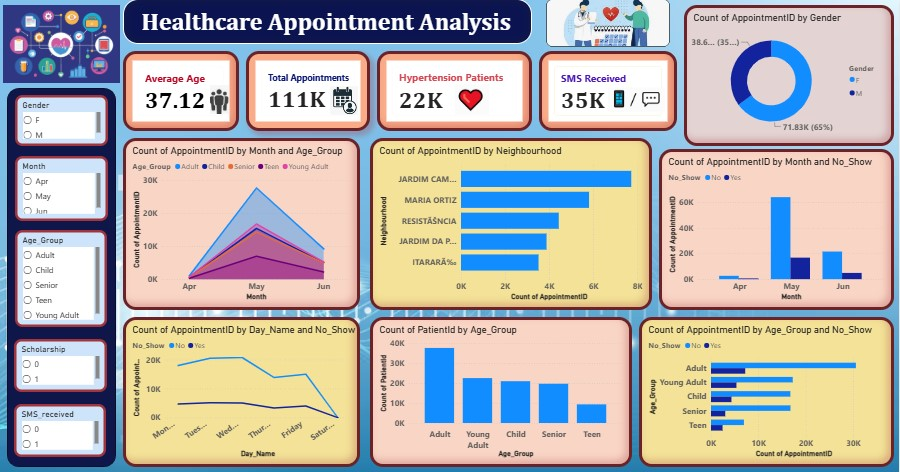

This screenshot's page, from the dashboard's own definition file:
{"tool":"powerbi","page":{"name":"Page 1","canvas":[1800,950],"ordinal":0},"visuals":[{"type":"image","box":[1094,0,248,96],"z":0},{"type":"shape","box":[16,178,218,758],"z":1000},{"type":"listSlicer","fields":{"Values":["Sheet1.Gender"]},"box":[32,192,186,102],"z":2000},{"type":"listSlicer","fields":{"Values":["Sheet1.Month"]},"box":[32,314,186,130],"z":3000},{"type":"listSlicer","fields":{"Values":["Sheet1.Age_Group"]},"box":[32,462,184,194],"z":4000},{"type":"listSlicer","fields":{"Values":["Sheet1.Scholarship"]},"box":[30,680,186,106],"z":5000},{"type":"listSlicer","fields":{"Values":["Sheet1.SMS_received"]},"box":[30,810,184,106],"z":6000},{"type":"textbox","box":[248,0,818,90],"z":7000},{"type":"donutChart","fields":{"Y":["CountNonNull(Sheet1.AppointmentID)"],"Category":["Sheet1.Gender"]},"box":[1370,12,420,282],"z":8000},{"type":"clusteredColumnChart","fields":{"Category":["Sheet1.Month"],"Series":["Sheet1.No_Show"],"Y":["CountNonNull(Sheet1.AppointmentID)"]},"box":[1320,300,470,322],"z":9000},{"type":"columnChart","fields":{"Category":["Sheet1.Age_Group"],"Y":["CountNonNull(Sheet1.PatientId)"]},"box":[742,636,524,300],"z":10000},{"type":"barChart","fields":{"Category":["Sheet1.Neighbourhood"],"Y":["CountNonNull(Sheet1.AppointmentID)"]},"box":[742,278,564,344],"z":11000},{"type":"cardVisual","fields":{"Data":["Sheet1.Total Appointments"]},"box":[494,104,248,160],"z":12000},{"type":"cardVisual","fields":{"Data":["Sheet1.SMS Received"]},"box":[1080,104,276,160],"z":13000},{"type":"cardVisual","fields":{"Data":["Sheet1.Average Age"]},"box":[248,104,232,160],"z":14000},{"type":"cardVisual","fields":{"Data":["Sheet1.Hypertension Patients"]},"box":[756,104,310,160],"z":15000},{"type":"areaChart","fields":{"Category":["Sheet1.Month"],"Series":["Sheet1.Age_Group"],"Y":["CountNonNull(Sheet1.AppointmentID)"]},"box":[248,278,474,344],"z":16000},{"type":"clusteredBarChart","fields":{"Category":["Sheet1.Age_Group"],"Y":["CountNonNull(Sheet1.AppointmentID)"],"Series":["Sheet1.No_Show"]},"box":[1280,636,510,300],"z":17000},{"type":"lineChart","fields":{"Y":["CountNonNull(Sheet1.AppointmentID)"],"Series":["Sheet1.No_Show"],"Category":["Sheet1.Day_Name"]},"box":[248,636,474,300],"z":18000},{"type":"image","box":[8,0,234,180],"z":19000},{"type":"image","box":[912,158,68,86],"z":20000},{"type":"image","box":[1218,172,114,58],"z":21000},{"type":"image","box":[658,174,64,58],"z":22000},{"type":"image","box":[422,170,38,62],"z":23000}]}

Visuals, with their boxes in screenshot pixels (x1, y1, x2, y2), scaled from the page's 1800x950 canvas onto the 900x472 screenshot:
image: pyautogui.locateOnScreen(547, 0, 671, 48)
shape: pyautogui.locateOnScreen(8, 88, 117, 465)
listSlicer - Sheet1.Gender: pyautogui.locateOnScreen(16, 95, 109, 146)
listSlicer - Sheet1.Month: pyautogui.locateOnScreen(16, 156, 109, 221)
listSlicer - Sheet1.Age_Group: pyautogui.locateOnScreen(16, 230, 108, 326)
listSlicer - Sheet1.Scholarship: pyautogui.locateOnScreen(15, 338, 108, 391)
listSlicer - Sheet1.SMS_received: pyautogui.locateOnScreen(15, 402, 107, 455)
textbox: pyautogui.locateOnScreen(124, 0, 533, 45)
donutChart - CountNonNull(Sheet1.AppointmentID) x Sheet1.Gender: pyautogui.locateOnScreen(685, 6, 895, 146)
clusteredColumnChart - Sheet1.Month x Sheet1.No_Show: pyautogui.locateOnScreen(660, 149, 895, 309)
columnChart - Sheet1.Age_Group x CountNonNull(Sheet1.PatientId): pyautogui.locateOnScreen(371, 316, 633, 465)
barChart - Sheet1.Neighbourhood x CountNonNull(Sheet1.AppointmentID): pyautogui.locateOnScreen(371, 138, 653, 309)
cardVisual - Sheet1.Total Appointments: pyautogui.locateOnScreen(247, 52, 371, 131)
cardVisual - Sheet1.SMS Received: pyautogui.locateOnScreen(540, 52, 678, 131)
cardVisual - Sheet1.Average Age: pyautogui.locateOnScreen(124, 52, 240, 131)
cardVisual - Sheet1.Hypertension Patients: pyautogui.locateOnScreen(378, 52, 533, 131)
areaChart - Sheet1.Month x Sheet1.Age_Group: pyautogui.locateOnScreen(124, 138, 361, 309)
clusteredBarChart - Sheet1.Age_Group x CountNonNull(Sheet1.AppointmentID): pyautogui.locateOnScreen(640, 316, 895, 465)
lineChart - CountNonNull(Sheet1.AppointmentID) x Sheet1.No_Show: pyautogui.locateOnScreen(124, 316, 361, 465)
image: pyautogui.locateOnScreen(4, 0, 121, 89)
image: pyautogui.locateOnScreen(456, 79, 490, 121)
image: pyautogui.locateOnScreen(609, 85, 666, 114)
image: pyautogui.locateOnScreen(329, 86, 361, 115)
image: pyautogui.locateOnScreen(211, 84, 230, 115)
